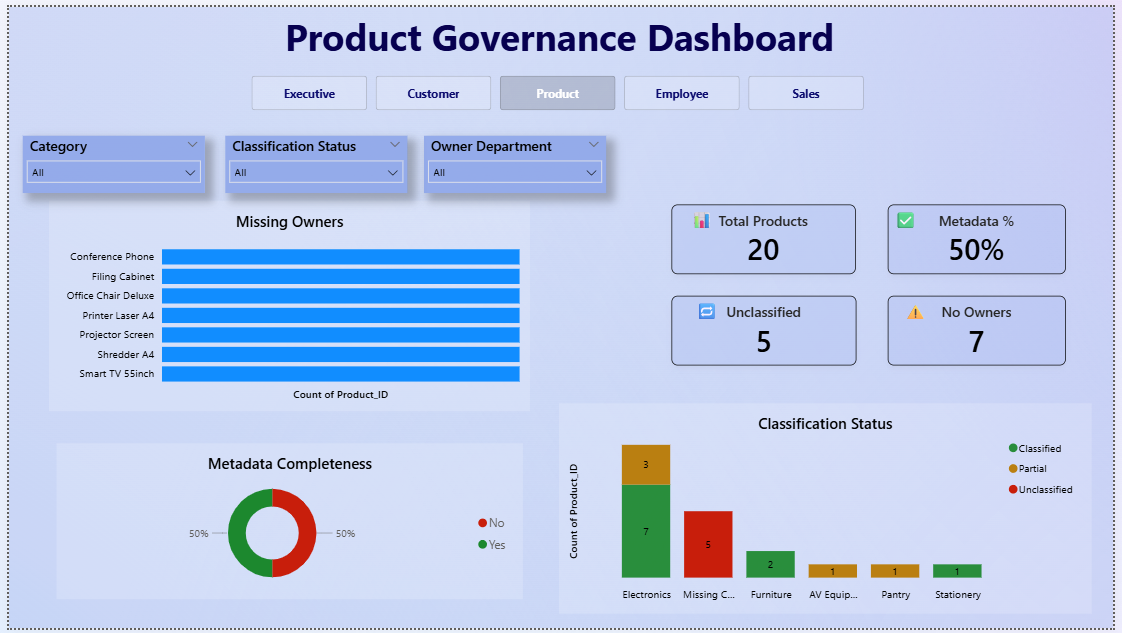

The dashboard page shown, as its layout file describes it:
{"tool":"powerbi","page":{"name":"Product","canvas":[1280,720],"ordinal":2},"visuals":[{"type":"clusteredBarChart","title":"Missing Owners","fields":{"Category":["product_data.Product_Name"],"Y":["CountNonNull(product_data.Product_ID)"]},"box":[46.5,225.3,557.9,244.4],"z":0},{"type":"donutChart","title":"Metadata Completeness","fields":{"Category":["product_data.Metadata_Complete"],"Y":["CountNonNull(product_data.Product_ID)"]},"box":[54.8,505.4,541.2,181.2],"z":1000},{"type":"slicer","fields":{"Values":["product_data.Category"]},"box":[15.8,149.1,211.1,66.7],"z":2000},{"type":"slicer","fields":{"Values":["product_data.Owner_Dept"]},"box":[481.9,149.1,211.1,66.7],"z":3000},{"type":"slicer","fields":{"Values":["product_data.Classification_Status"]},"box":[250.3,149.1,211.1,66.7],"z":4000},{"type":"textbox","box":[189.5,0,896.7,66.4],"z":5000},{"type":"columnChart","title":"Classification Status","fields":{"Category":["product_data.Category"],"Y":["CountNonNull(product_data.Product_ID)"],"Series":["product_data.Classification_Status"]},"box":[637.7,460.1,617.5,244.4],"z":6000},{"type":"cardVisual","fields":{"Data":["product_data.Total Products"]},"box":[767.7,228.9,213.4,81.1],"z":7000},{"type":"cardVisual","fields":{"Data":["product_data.Metadata_Completeness_Percentage"]},"box":[1019.2,228.9,206.2,81.1],"z":8000},{"type":"cardVisual","fields":{"Data":["product_data.Products_Without_Owners"]},"box":[1019.3,335.2,206.2,80.7],"z":9000},{"type":"cardVisual","fields":{"Data":["product_data.Unclassified_Products"]},"box":[767.7,335,214.6,81.1],"z":10000},{"type":"textbox","box":[785.5,228.9,40.5,40.5],"z":11000},{"type":"textbox","box":[1022.3,229,34.8,40.2],"z":12000},{"type":"textbox","box":[791.1,335.4,38.1,42.8],"z":13000},{"type":"textbox","box":[1032.6,335.4,32,37.5],"z":14000},{"type":"pageNavigator","box":[280.5,79.3,714.9,40.2],"z":15000}]}

Visuals, with their boxes in screenshot pixels (x1, y1, x2, y2), scaled from the page's 1280x720 canvas onto the 1122x633 screenshot:
"Missing Owners" clusteredBarChart: pyautogui.locateOnScreen(41, 198, 530, 413)
"Metadata Completeness" donutChart: pyautogui.locateOnScreen(48, 444, 522, 604)
slicer - product_data.Category: pyautogui.locateOnScreen(14, 131, 199, 190)
slicer - product_data.Owner_Dept: pyautogui.locateOnScreen(422, 131, 607, 190)
slicer - product_data.Classification_Status: pyautogui.locateOnScreen(219, 131, 404, 190)
textbox: pyautogui.locateOnScreen(166, 0, 952, 58)
"Classification Status" columnChart: pyautogui.locateOnScreen(559, 405, 1100, 619)
cardVisual - product_data.Total Products: pyautogui.locateOnScreen(673, 201, 860, 273)
cardVisual - product_data.Metadata_Completeness_Percentage: pyautogui.locateOnScreen(893, 201, 1074, 273)
cardVisual - product_data.Products_Without_Owners: pyautogui.locateOnScreen(893, 295, 1074, 366)
cardVisual - product_data.Unclassified_Products: pyautogui.locateOnScreen(673, 295, 861, 366)
textbox: pyautogui.locateOnScreen(689, 201, 724, 237)
textbox: pyautogui.locateOnScreen(896, 201, 927, 237)
textbox: pyautogui.locateOnScreen(693, 295, 727, 333)
textbox: pyautogui.locateOnScreen(905, 295, 933, 328)
pageNavigator: pyautogui.locateOnScreen(246, 70, 873, 105)
